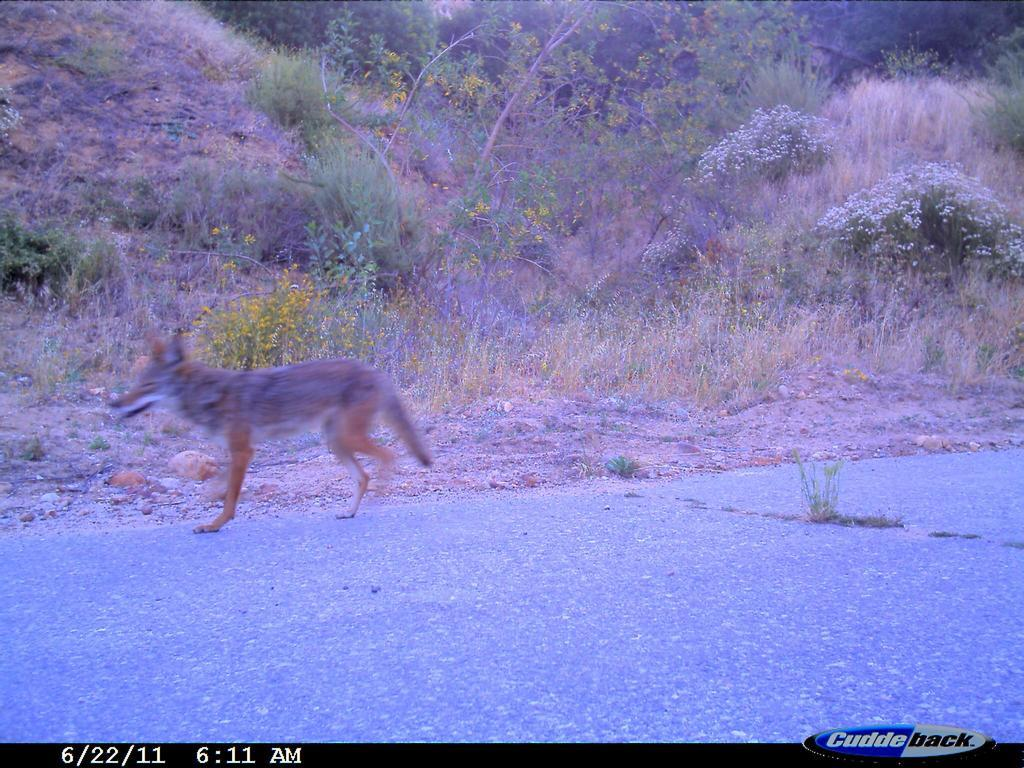coyote: (111, 327, 437, 537)
